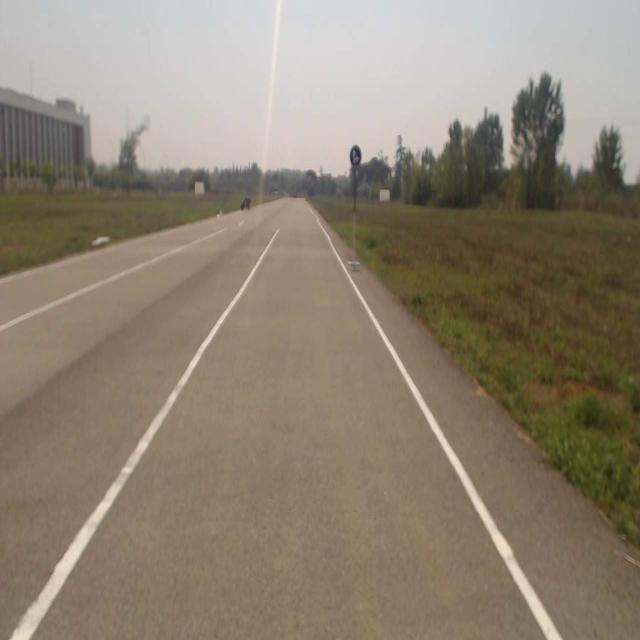ilerisag: (350, 143, 362, 165)
